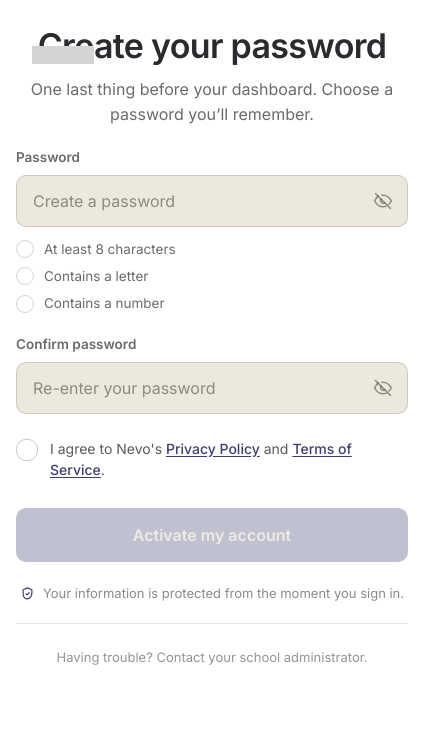
Test case: joining by link › still sends them to sign in when the join carried no session
Step 1. Type "lessons42" into the password field labelled "Password" → (199, 201), box [33, 176, 365, 226]
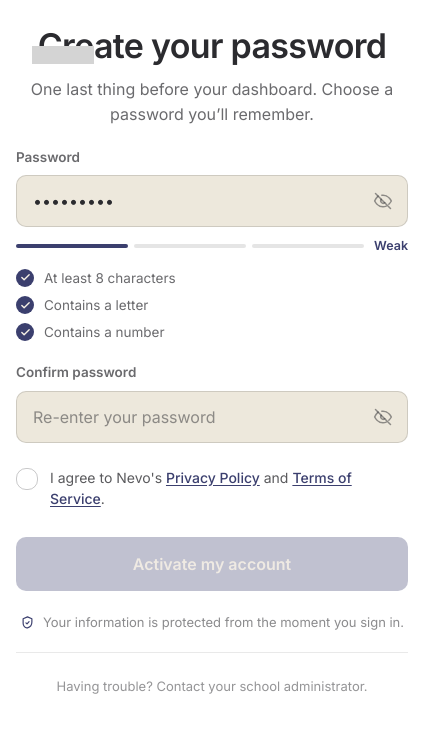
Step 2. Type "lessons42" into the password field labelled "Confirm password" → (199, 417), box [33, 392, 365, 442]
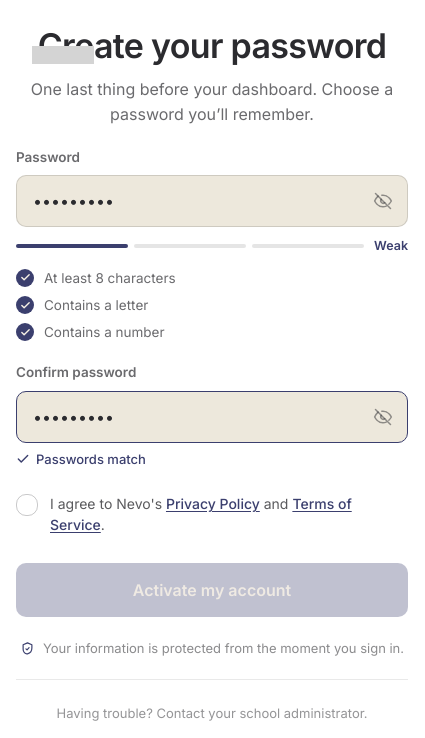
Step 3. Click the checkbox → click(212, 514), box [16, 493, 408, 535]
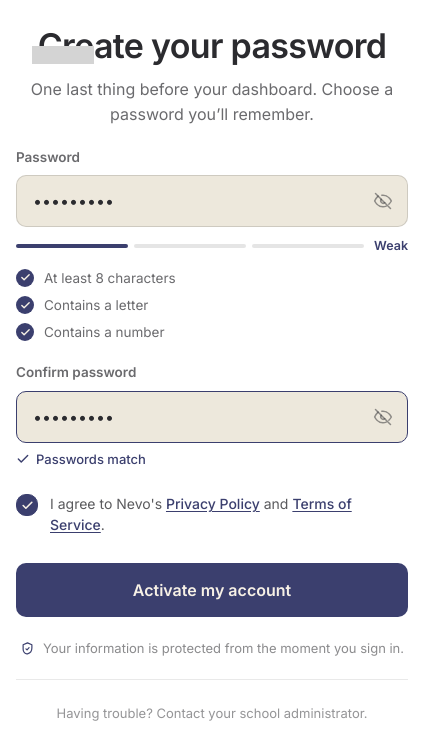
Step 4. Click the button "Activate my account" → click(212, 590), box [16, 563, 408, 617]
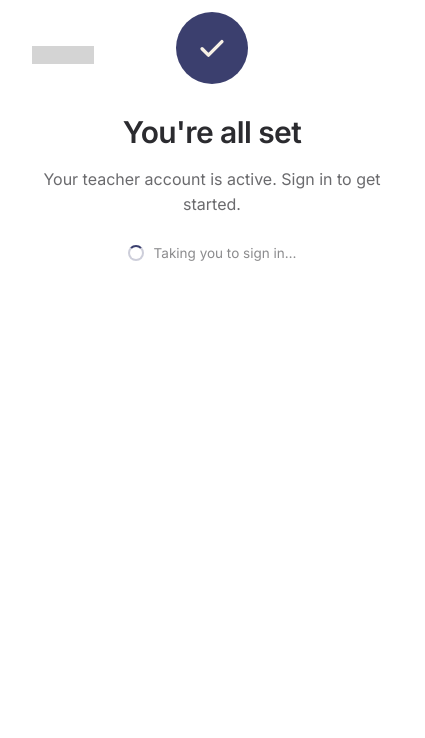
Expected: the text "Taking you to sign in…" is shown, [128, 243, 296, 263]
